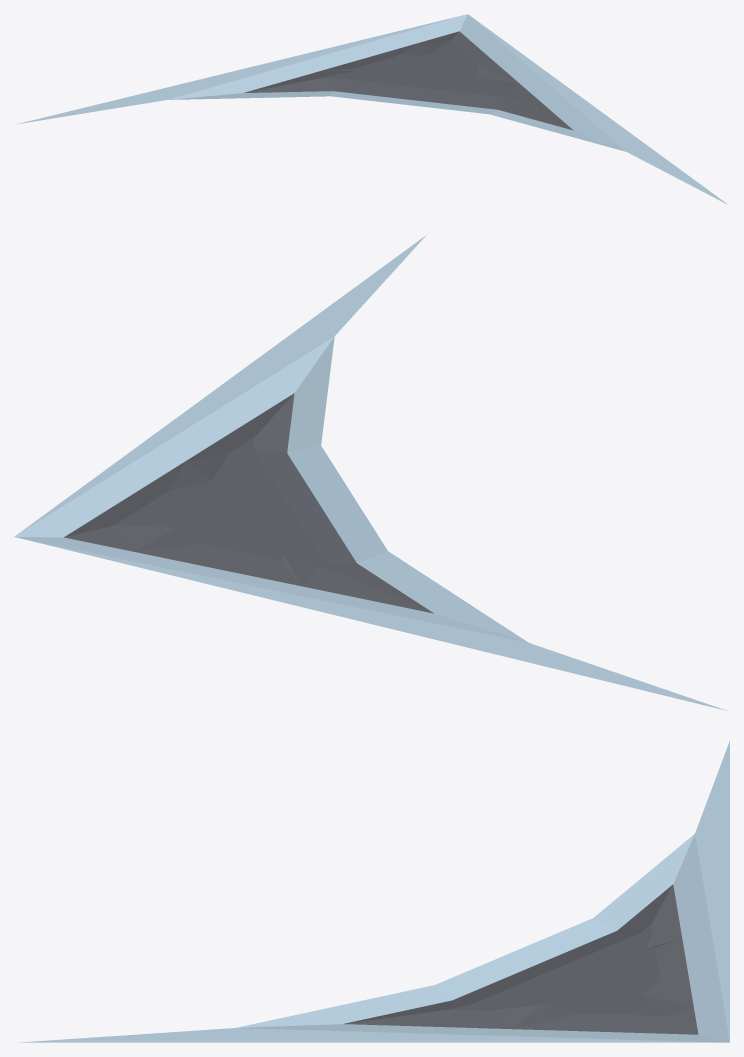
The model's file is Floor_Large_Curved_In.fbx.
3 views of the same model, one above another, from view 1: azimuth 30°, elevation 25°; view 2: azimuth 150°, elevation 25°; view 3: azimuth 270°, elevation 25° (orthographic). The views are drawn at different scales.
Visible parts, largest first — view 1: Floor_Large_Curved_In; view 2: Floor_Large_Curved_In; view 3: Floor_Large_Curved_In.
Boxes of the visible parts, x1,y1,x2,y2 form: Floor_Large_Curved_In: [15, 14, 728, 204]; Floor_Large_Curved_In: [14, 235, 728, 711]; Floor_Large_Curved_In: [18, 741, 729, 1042].
Size of the model in its own units: 12.25 by 0.1 by 12.25.
